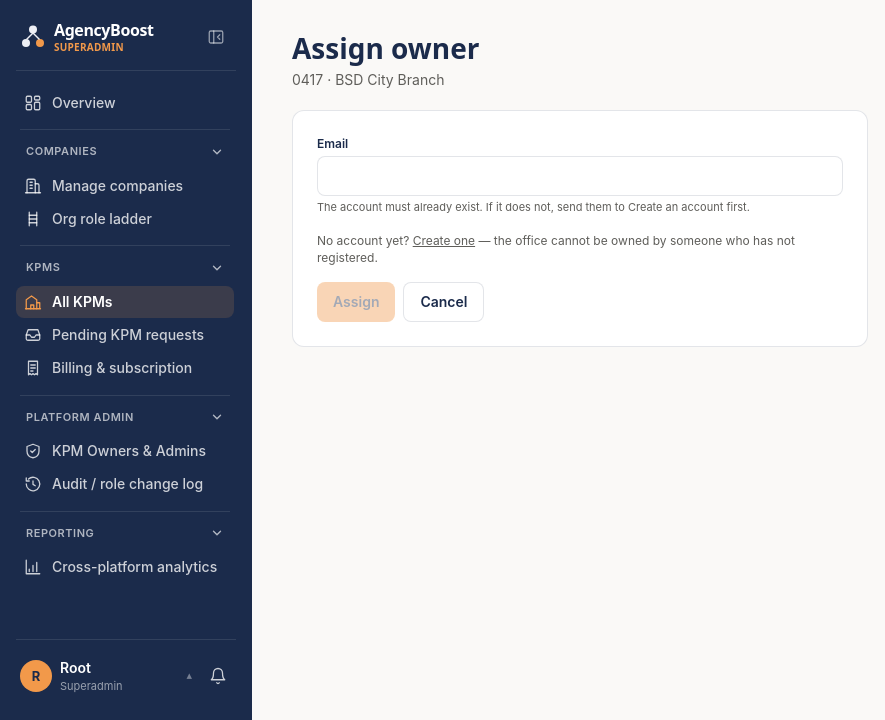
Scenario: assign owner › says plainly that no account uses that address
This screenshot has width=885, height=720.
In the field labelled "Email": (580, 176) [317,156,843,196], type "nobody@nowhere.test"
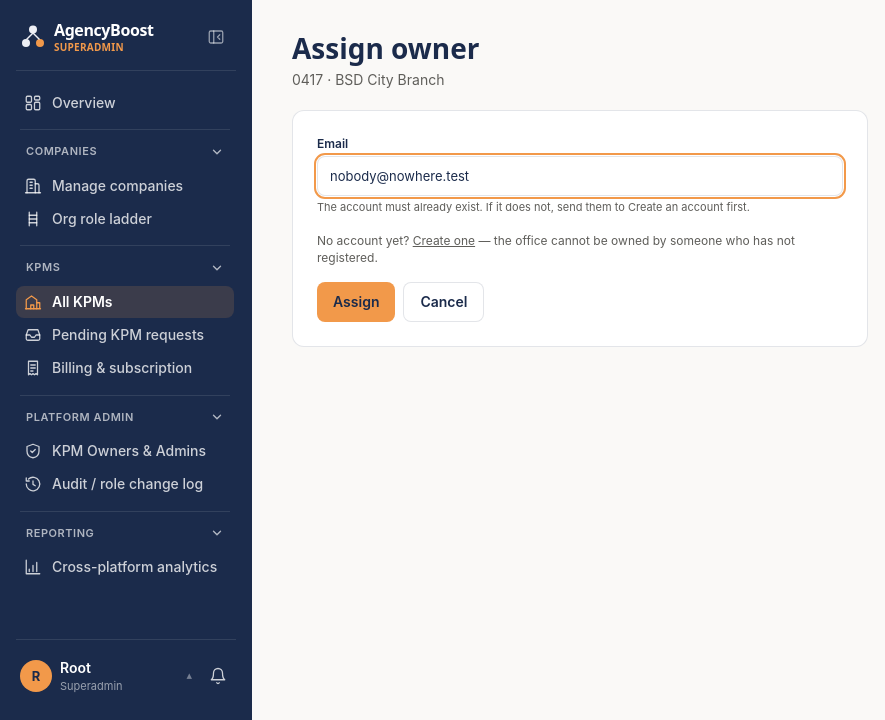
Click the button "Assign": click(356, 302) [317,282,396,322]
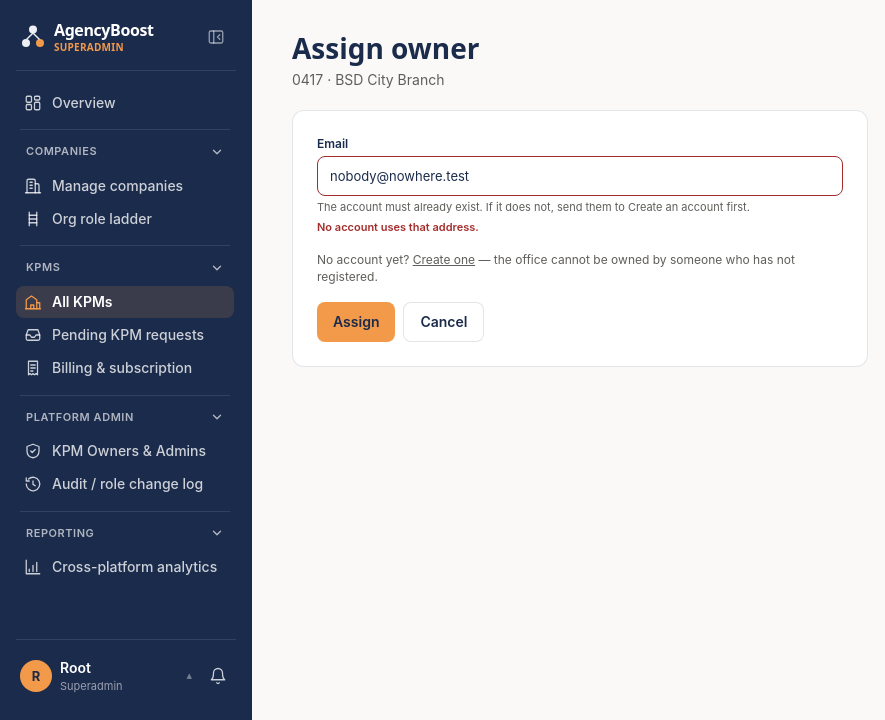
Check: the number of messages is 1, box [317,220,479,234]
Check: the message reads "No account uses that address.", box [317,220,479,234]
